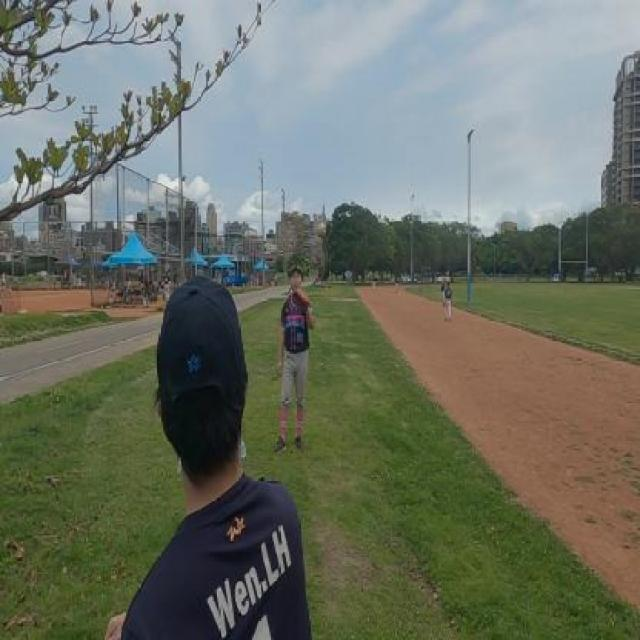baseball: (316, 222, 327, 240)
